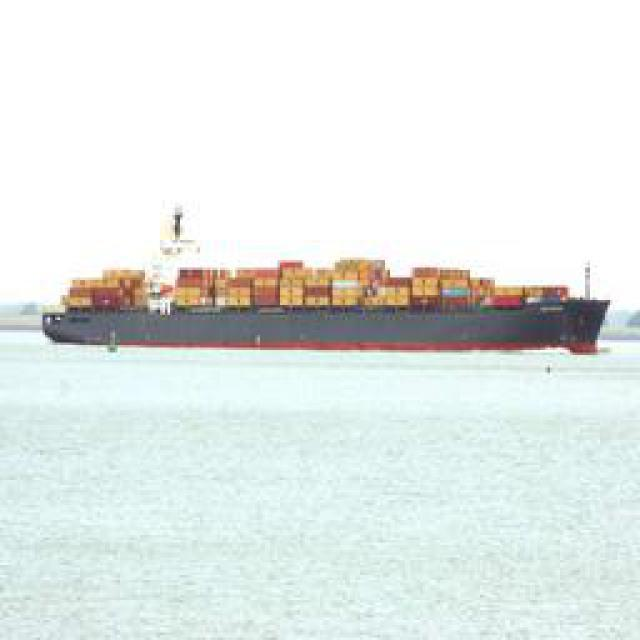Ship: (41, 240, 611, 355)
